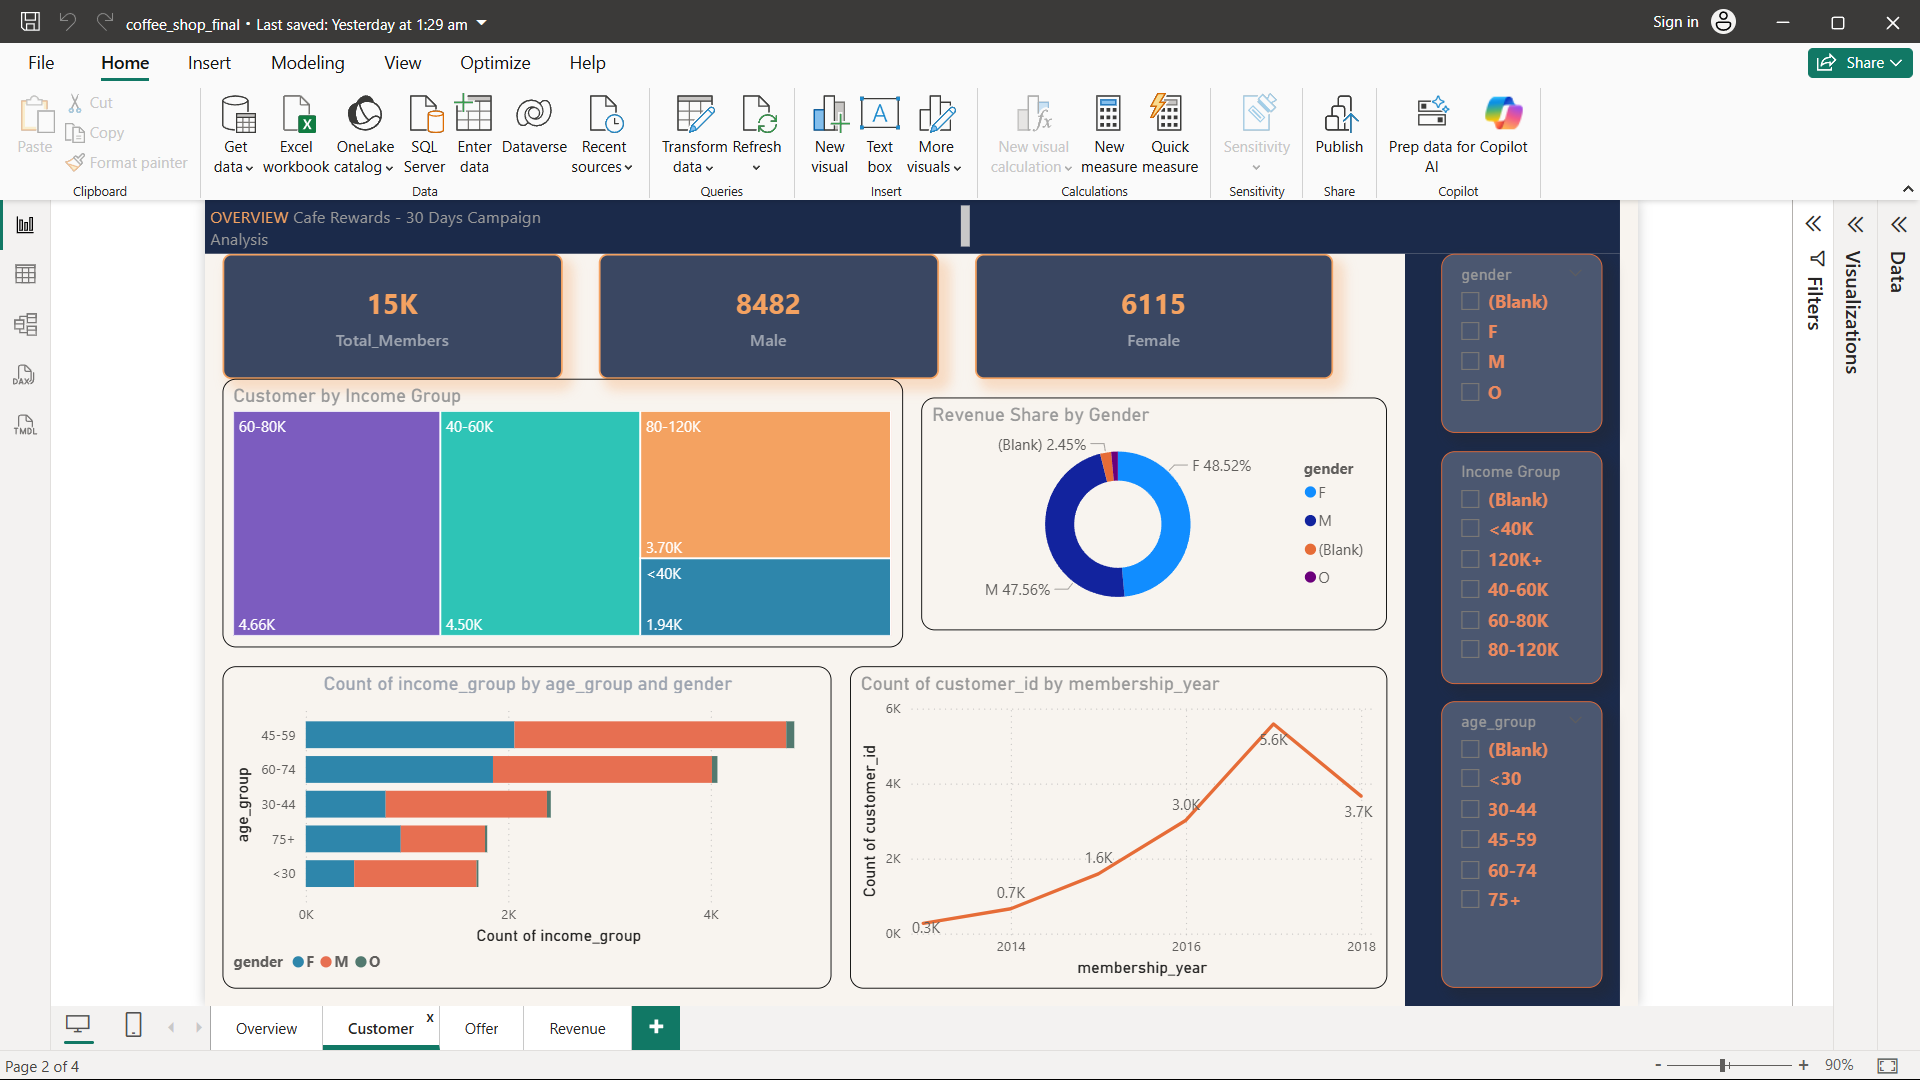

The page's visual inventory and layout, read from the dashboard file:
{"tool":"powerbi","page":{"name":"Customer","canvas":[1280,720],"ordinal":1},"visuals":[{"type":"card","fields":{"Values":["dim_customers.Total_Members"]},"box":[16,48,304,112],"z":0},{"type":"card","fields":{"Values":["dim_customers.Male"]},"box":[352,48,304,112],"z":1000},{"type":"card","fields":{"Values":["dim_customers.Female"]},"box":[688,48,320,112],"z":2000},{"type":"shape","box":[0,0,1264,48],"z":3000},{"type":"textbox","box":[0,0,688,48],"z":4000},{"type":"treemap","title":"Customer by Income Group","fields":{"Group":["dim_customers.income_group"],"Values":["CountNonNull(dim_customers.customer_id)"]},"box":[16,160,608,240],"z":5000},{"type":"donutChart","title":"Revenue Share by Gender","fields":{"Category":["dim_customers.gender"],"Y":["fact_transactions.Total_Revenue"]},"box":[640,176,416,208],"z":6000},{"type":"shape","box":[1072,48,192,672],"z":7000},{"type":"slicer","fields":{"Values":["dim_customers.gender"]},"box":[1104,48,144,160],"z":8000},{"type":"slicer","fields":{"Values":["dim_customers.income_group"]},"box":[1104,224,144,208],"z":9000},{"type":"slicer","fields":{"Values":["dim_customers.age_group"]},"box":[1104,448,144,256],"z":10000},{"type":"barChart","fields":{"Category":["dim_customers.age_group"],"Y":["CountNonNull(dim_customers.income_group)"],"Series":["dim_customers.gender"]},"box":[16,416,544,288],"z":11000},{"type":"lineChart","fields":{"Category":["dim_customers.membership_year"],"Y":["Count(dim_customers.customer_id)"]},"box":[576,416,480,288],"z":12000}]}

Visuals, with their boxes on the page's 1280x720 design canvas (x1, y1, x2, y2). These are canvas units, not pixel positions in the 1920x1080 screenshot, which may show the page scaled, cropped or inside an application window:
card - dim_customers.Total_Members: region(16, 48, 320, 160)
card - dim_customers.Male: region(352, 48, 656, 160)
card - dim_customers.Female: region(688, 48, 1008, 160)
shape: region(0, 0, 1264, 48)
textbox: region(0, 0, 688, 48)
"Customer by Income Group" treemap: region(16, 160, 624, 400)
"Revenue Share by Gender" donutChart: region(640, 176, 1056, 384)
shape: region(1072, 48, 1264, 720)
slicer - dim_customers.gender: region(1104, 48, 1248, 208)
slicer - dim_customers.income_group: region(1104, 224, 1248, 432)
slicer - dim_customers.age_group: region(1104, 448, 1248, 704)
barChart - dim_customers.age_group x CountNonNull(dim_customers.income_group): region(16, 416, 560, 704)
lineChart - dim_customers.membership_year x Count(dim_customers.customer_id): region(576, 416, 1056, 704)
